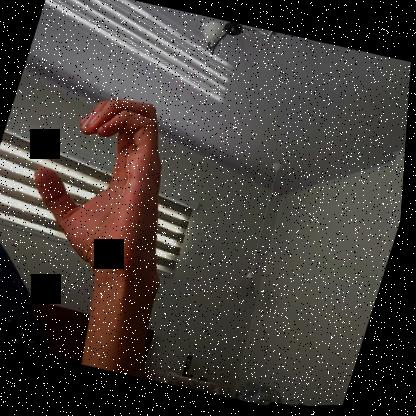C: (16, 81, 205, 283)
